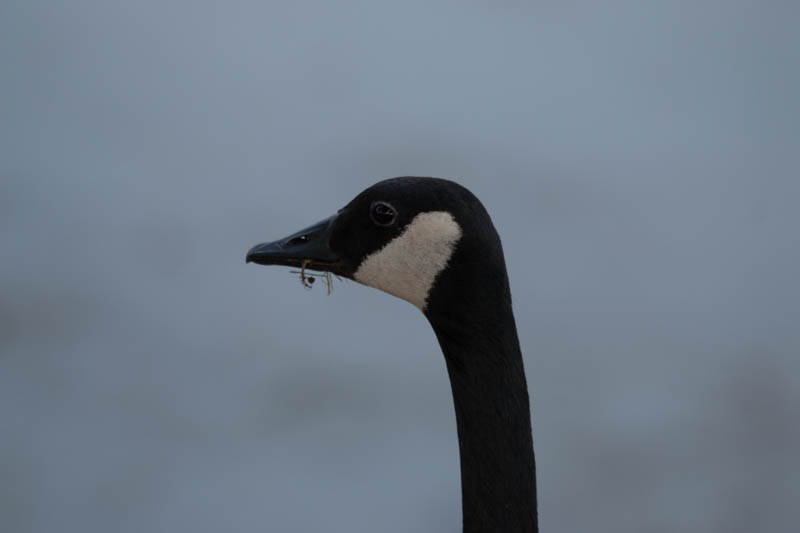goose-head: (245, 176, 513, 313)
